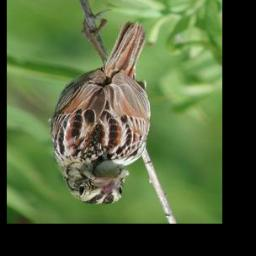Sparrow: (48, 8, 149, 206)
